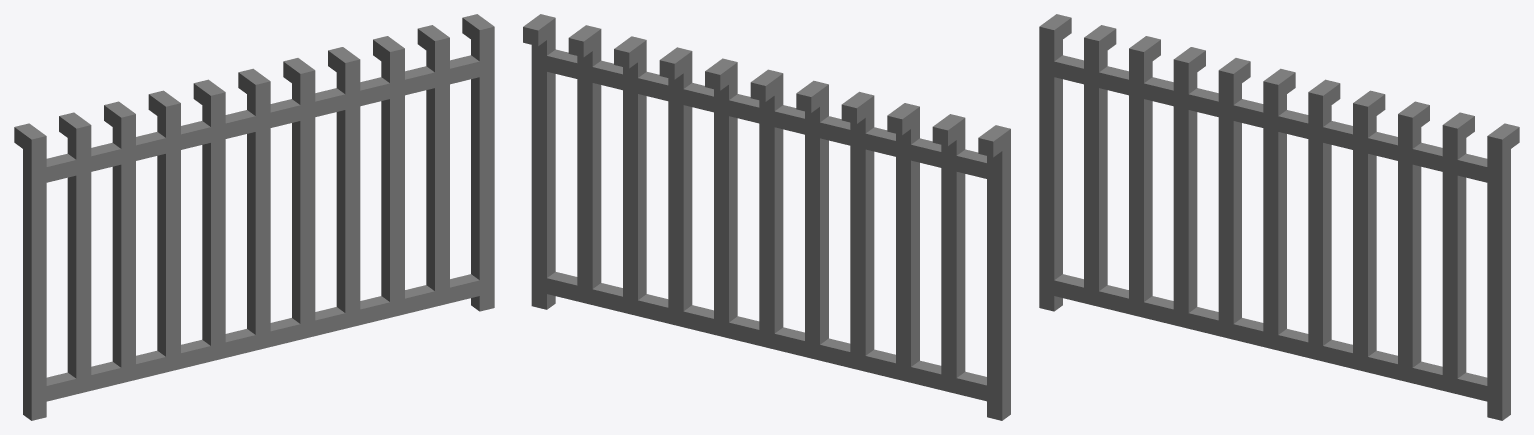
Rendered from obj_fence1.fbx.
The picture shows the model from 3 angles, left to right: view 1: azimuth 30°, elevation 25°; view 2: azimuth 150°, elevation 25°; view 3: azimuth 330°, elevation 25°; orthographic projection.
Parts seen in each view (by area): view 1: obj_fence1; view 2: obj_fence1; view 3: obj_fence1.
Boxes of the visible parts, left/top/right/bottom form: obj_fence1: left=14, top=14, right=494, bottom=420; obj_fence1: left=523, top=14, right=1010, bottom=420; obj_fence1: left=1039, top=14, right=1519, bottom=420.
Bounding box in the file's own units: 3.1 × 0.2 × 1.8.
Materials: 1 (1 with a texture image).
